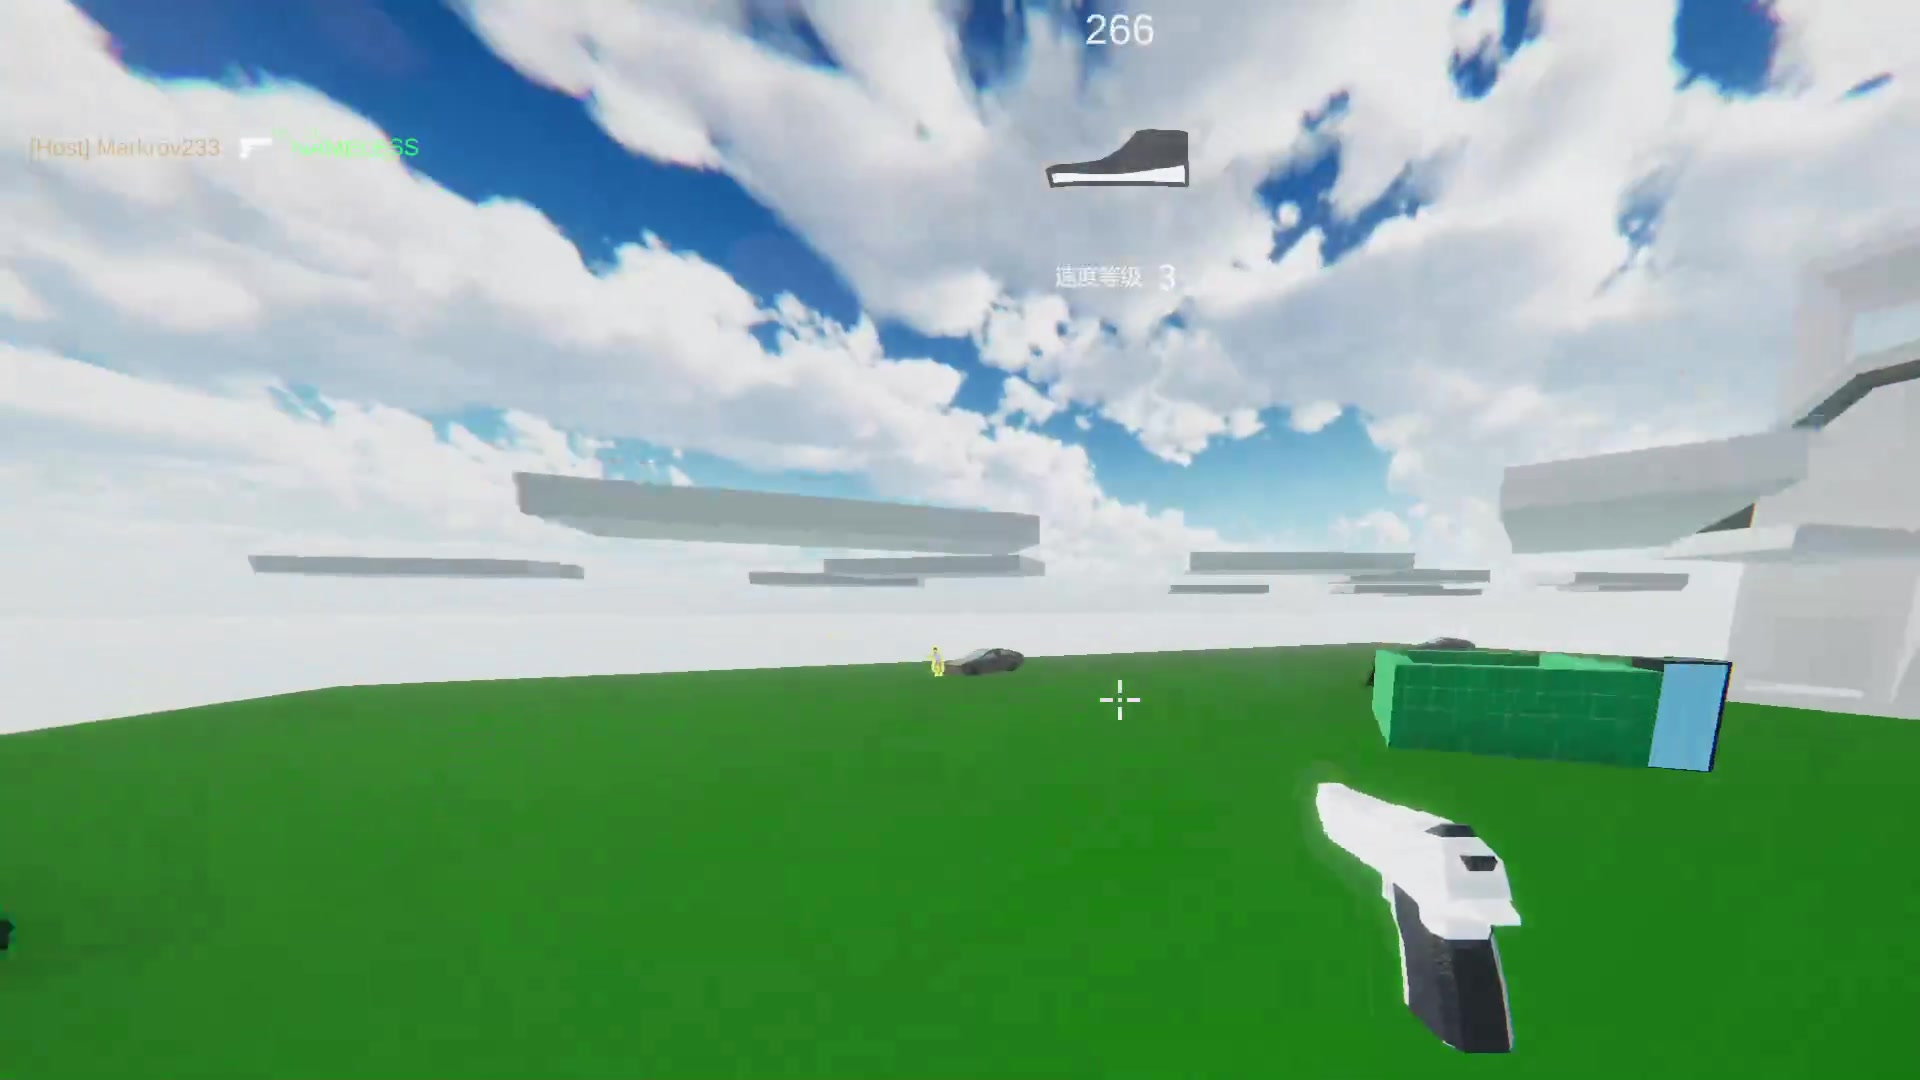human: (930, 645, 947, 682)
